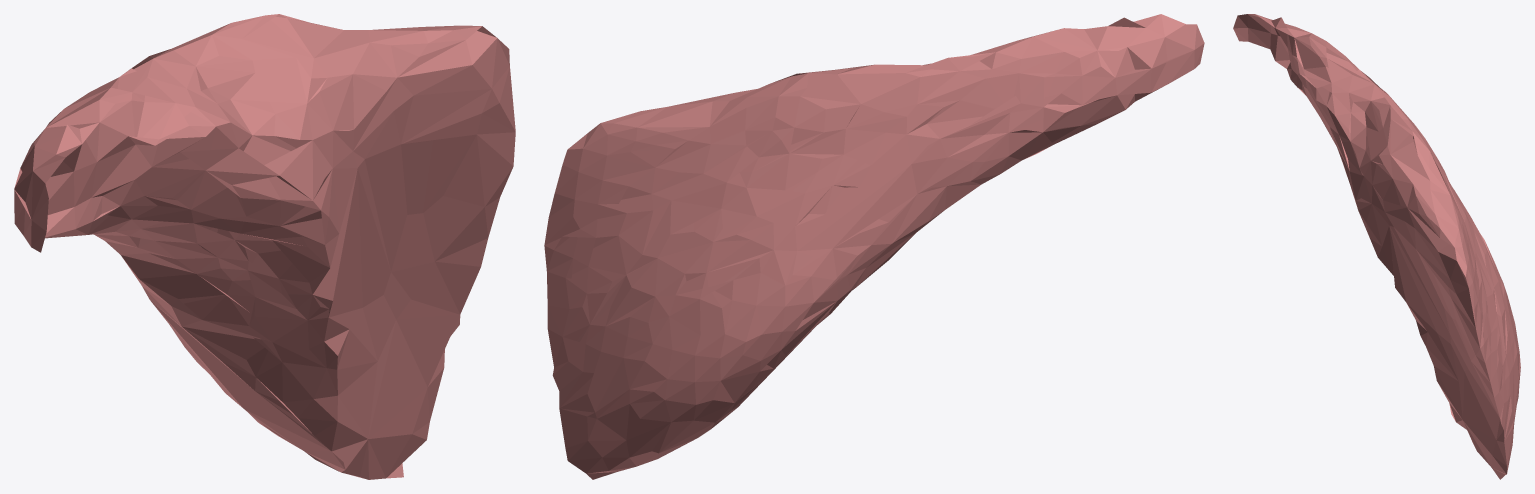
File: Infraspinatus_muscle.r.glb
The picture shows the model from 3 angles, left to right: view 1: azimuth 30°, elevation 25°; view 2: azimuth 150°, elevation 25°; view 3: azimuth 270°, elevation 25°; orthographic projection. The views are drawn at different scales.
Visible parts, largest first — view 1: Infraspinatus_muscle.r; view 2: Infraspinatus_muscle.r; view 3: Infraspinatus_muscle.r.
Part boxes in pixels (left/top/right/bottom): Infraspinatus_muscle.r: left=14, top=14, right=515, bottom=479; Infraspinatus_muscle.r: left=544, top=14, right=1204, bottom=479; Infraspinatus_muscle.r: left=1233, top=14, right=1520, bottom=479.
Size of the model in its own units: 0.1308 by 0.1135 by 0.0907.
